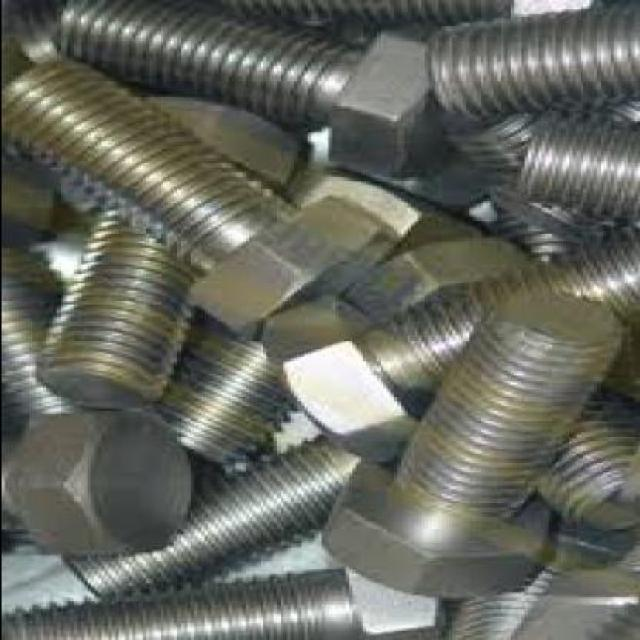metal: (156, 166, 490, 485), (22, 68, 386, 335), (317, 290, 620, 598), (258, 224, 637, 458), (338, 234, 637, 529), (34, 92, 292, 406), (48, 0, 450, 177), (56, 432, 384, 598), (2, 566, 443, 639), (2, 406, 189, 554), (425, 3, 637, 117), (2, 245, 100, 440), (506, 105, 637, 228), (440, 556, 585, 638)
